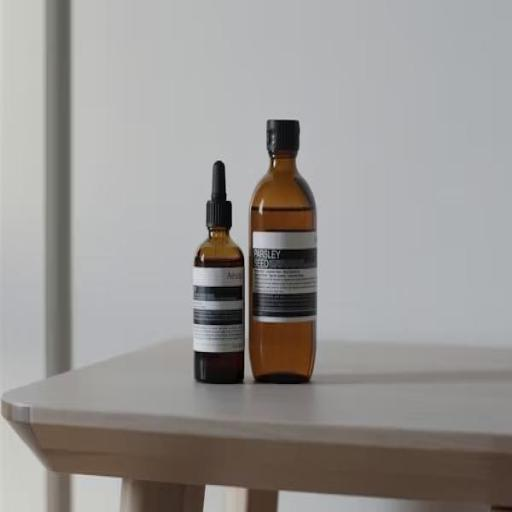bottle: (242, 108, 322, 396), (184, 154, 252, 390)
